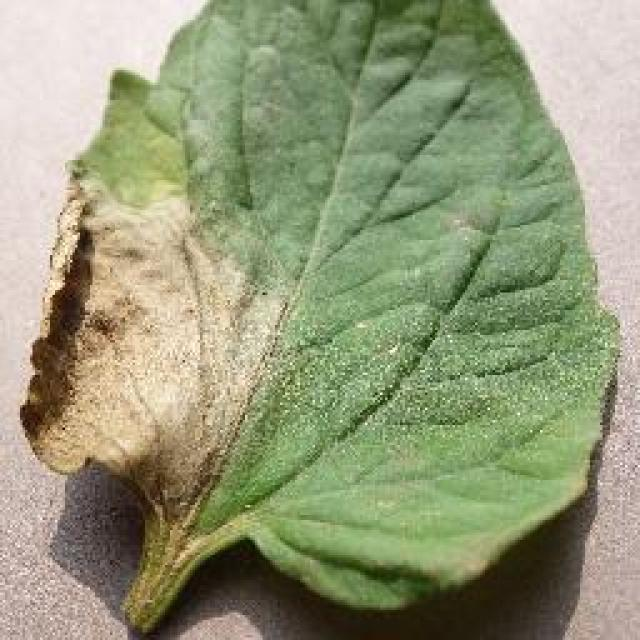Tomato late blight leaf: (20, 0, 622, 638)
